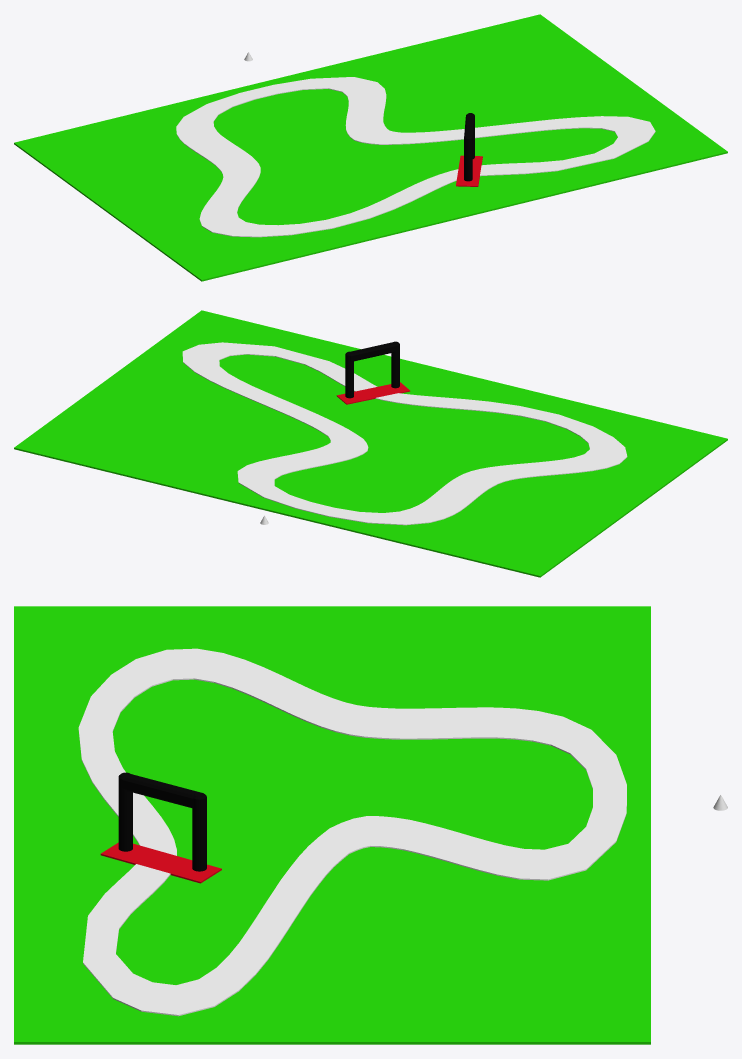
The model's file is CircuitoCarreras.glb.
3 views of the same model, one above another, from view 1: azimuth 30°, elevation 25°; view 2: azimuth 150°, elevation 25°; view 3: azimuth 270°, elevation 25° (orthographic). The views are drawn at different scales.
Visible parts, largest first — view 1: Plane.002, Plane, Plane.001, Cylinder; view 2: Plane.002, Plane, Cylinder, Plane.001, Cube; view 3: Plane.002, Plane, Cylinder, Plane.001, Cube.
Boxes of the visible parts, x1,y1,x2,y2 form: Plane.002: (14,14,727,281); Plane: (176,77,655,237); Plane.001: (456,155,482,186); Cylinder: (464,113,474,181); Plane.002: (14,310,727,577); Plane: (182,342,627,525); Cylinder: (345,341,399,398); Plane.001: (336,382,410,404); Cube: (350,342,396,361); Plane.002: (14,606,650,1044); Plane: (78,648,626,1016); Cylinder: (118,772,206,871); Plane.001: (100,842,221,883); Cube: (122,774,199,807).
Bounding box in the file's own units: 141 × 12.44 × 97.94.
